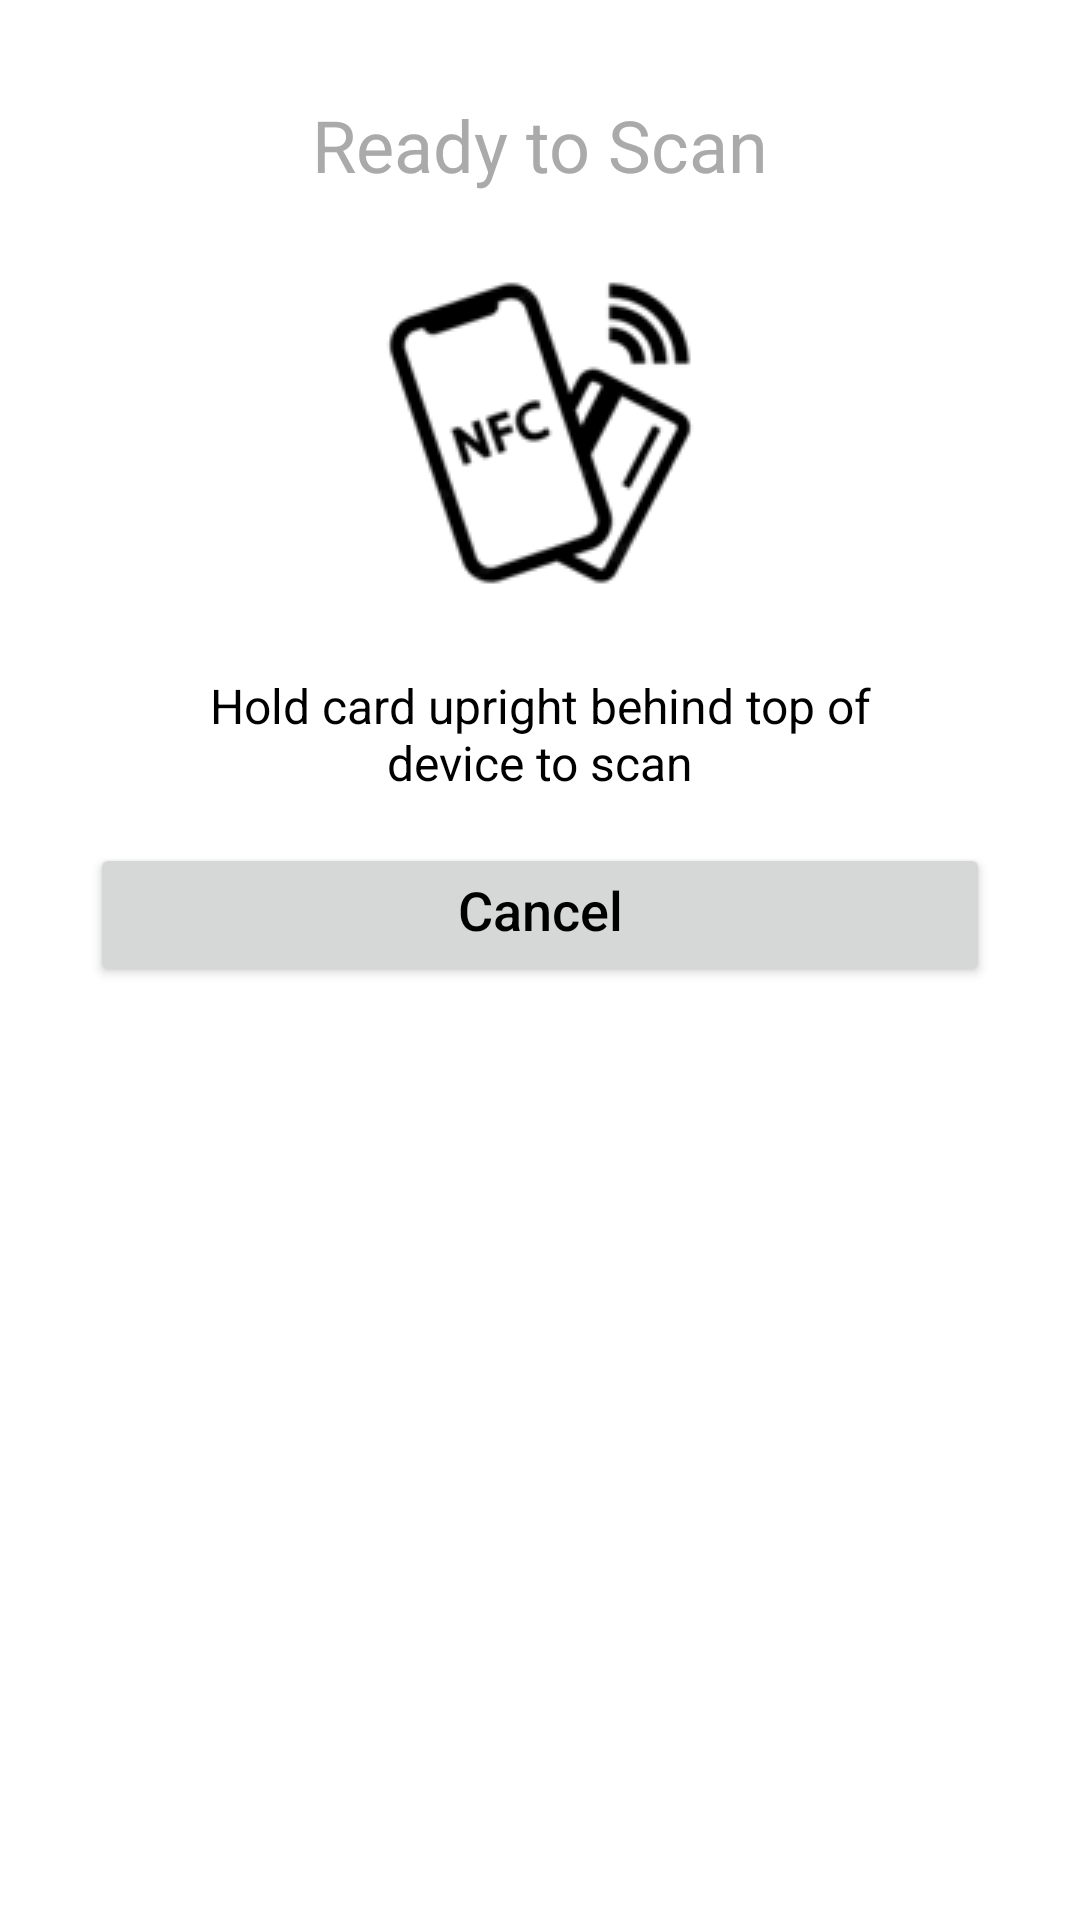

Icon click points for this 1080*1920 phone screenshot, format (x,y):
nfc scan: (540,433)
